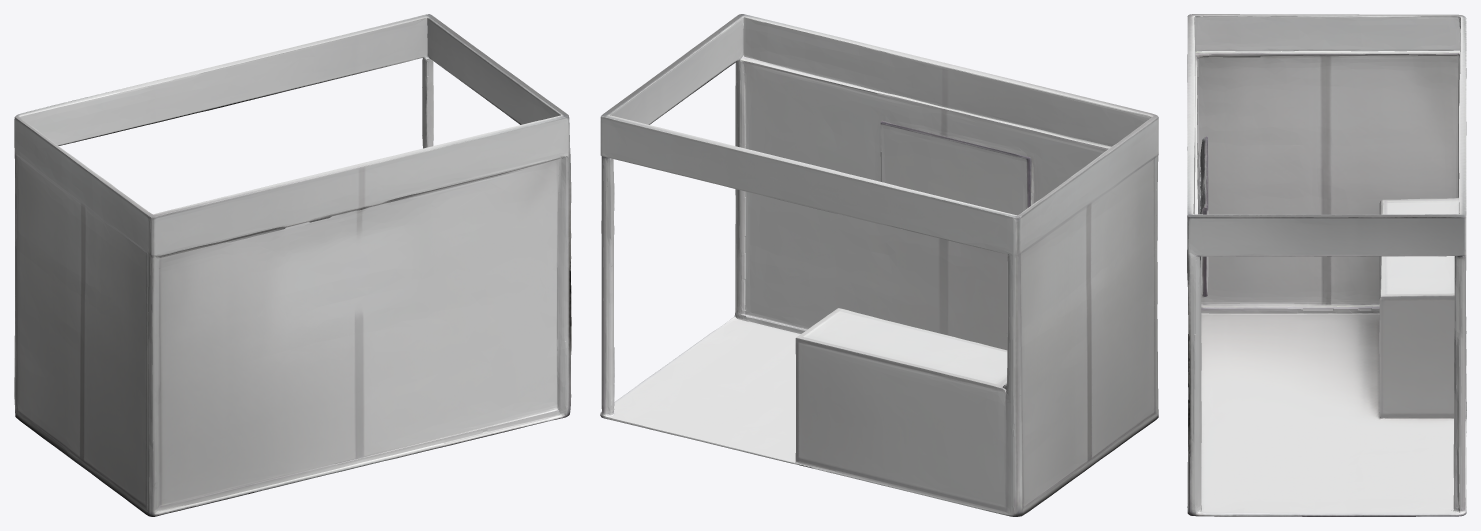
The model's file is mod5.glb.
The picture shows the model from 3 angles, left to right: view 1: azimuth 30°, elevation 25°; view 2: azimuth 150°, elevation 25°; view 3: azimuth 270°, elevation 25°; orthographic projection.
Visible parts, largest first — view 1: world; view 2: world; view 3: world.
Boxes of the visible parts, x1,y1,x2,y2 form: world: (14,14,571,516); world: (600,14,1158,516); world: (1187,14,1466,516).
Bounding box in the file's own units: 0.6943 × 0.4737 × 0.4008.
1 material, 1 textured.
